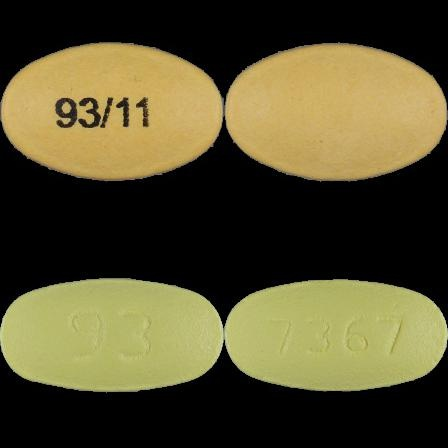63187-551: (0, 0, 224, 224)
